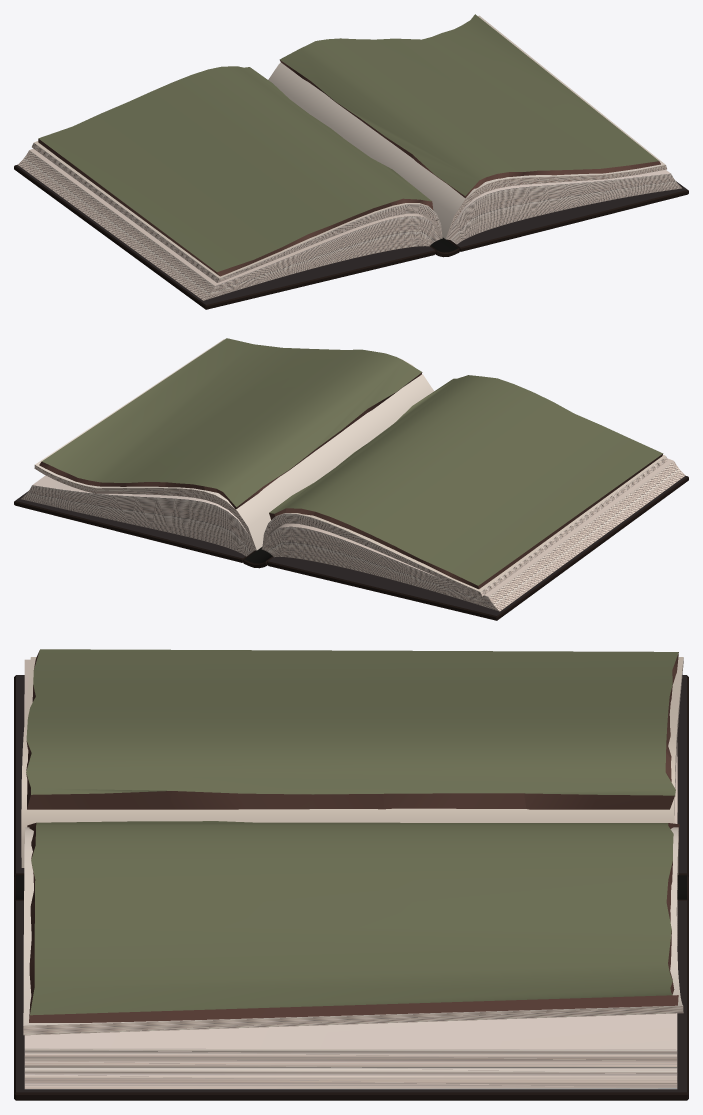
The model's file is BookNoWaterfall.fbx.
The picture shows the model from 3 angles, top to bottom: view 1: azimuth 30°, elevation 25°; view 2: azimuth 150°, elevation 25°; view 3: azimuth 270°, elevation 25°; orthographic projection. The views are drawn at different scales.
Visible parts, largest first — view 1: Scene; view 2: Scene; view 3: Scene.
Part boxes in pixels (box(x1,y1,x2,y2)): Scene: box(14, 14, 688, 309); Scene: box(14, 338, 688, 620); Scene: box(14, 649, 688, 1100).
Bounding box in the file's own units: 10307 × 1337 × 7088.
